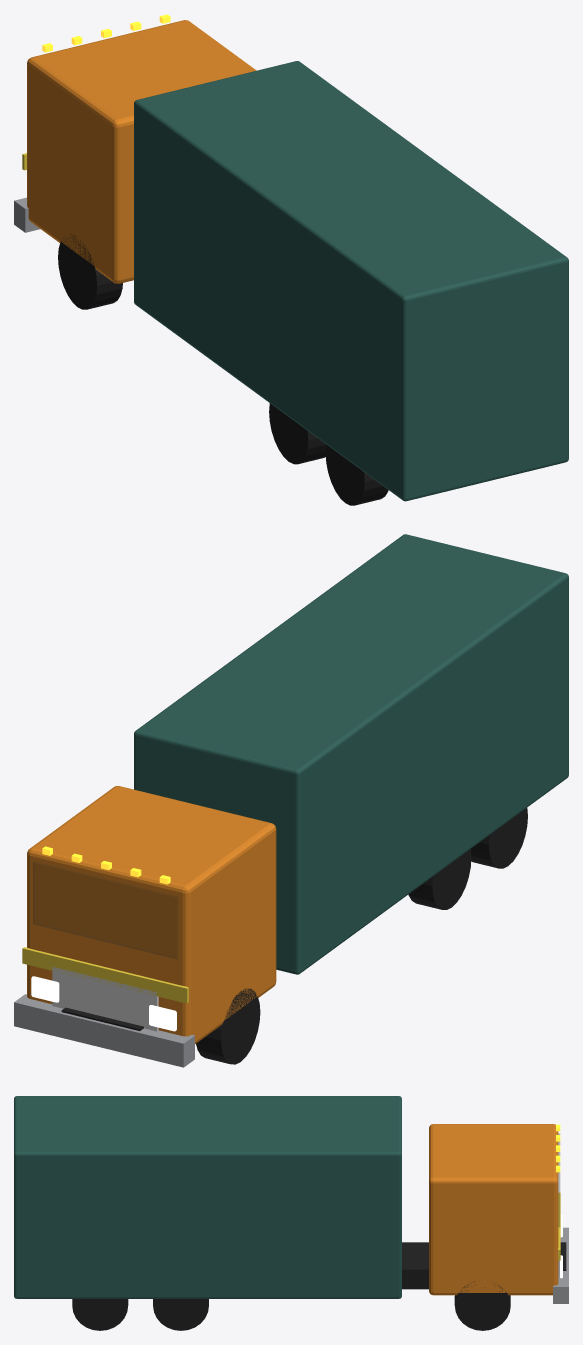
Rendered from intro_truck.glb.
3 renders of one model, top to bottom at view 1: azimuth 30°, elevation 25°; view 2: azimuth 150°, elevation 25°; view 3: azimuth 270°, elevation 25°, orthographic. The views are drawn at different scales.
Parts seen in each view (by area): view 1: truck_cargo, truck_cab, truck_wheel_-1.05_3.2, truck_wheel_-1.05_-3.9, truck_wheel_-1.05_-2.4; view 2: truck_cargo, truck_cab, truck_cabglass, truck_bumper, truck_grille, truck_wheel_-1.05_3.2, truck_trim, truck_wheel_-1.05_-2.4, truck_wheel_-1.05_-3.9; view 3: truck_cargo, truck_cab, truck_wheel_1.05_3.2, truck_wheel_1.05_-3.9, truck_wheel_1.05_-2.4, truck_chassis, truck_bumper.
Part boxes in pixels (x1,y1,x2,y2): truck_cargo: [134, 61, 568, 501]; truck_cab: [27, 20, 256, 283]; truck_wheel_-1.05_3.2: [58, 234, 122, 309]; truck_wheel_-1.05_-3.9: [325, 444, 388, 505]; truck_wheel_-1.05_-2.4: [269, 403, 326, 464]; truck_cargo: [134, 534, 568, 974]; truck_cab: [27, 786, 276, 1043]; truck_cabglass: [33, 862, 177, 958]; truck_bumper: [14, 994, 194, 1067]; truck_grille: [52, 967, 158, 1031]; truck_wheel_-1.05_3.2: [196, 988, 260, 1064]; truck_trim: [22, 947, 188, 1003]; truck_wheel_-1.05_-2.4: [408, 849, 471, 909]; truck_wheel_-1.05_-3.9: [471, 808, 527, 868]; truck_cargo: [14, 1096, 401, 1298]; truck_cab: [429, 1124, 558, 1295]; truck_wheel_1.05_3.2: [454, 1281, 510, 1330]; truck_wheel_1.05_-3.9: [72, 1299, 128, 1330]; truck_wheel_1.05_-2.4: [153, 1299, 208, 1330]; truck_chassis: [402, 1242, 566, 1289]; truck_bumper: [553, 1227, 568, 1303].
Bounding box in the file's own units: 2.6 × 3.65 × 10.3.
